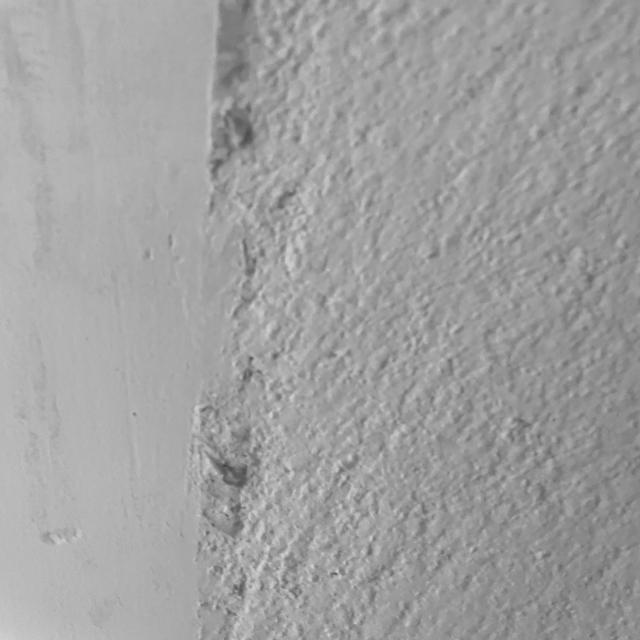rough and patchy surface: (198, 1, 640, 640)
